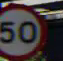Speed limit: (1, 2, 48, 59)
